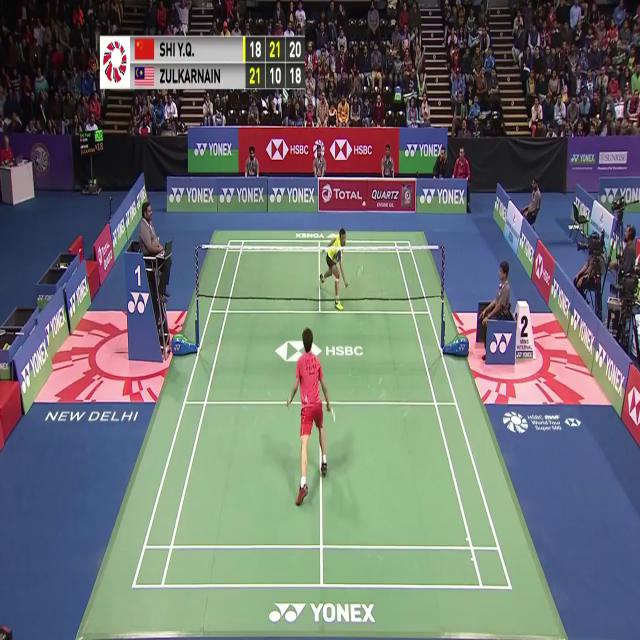Shuttlecock: (361, 200, 368, 211)
